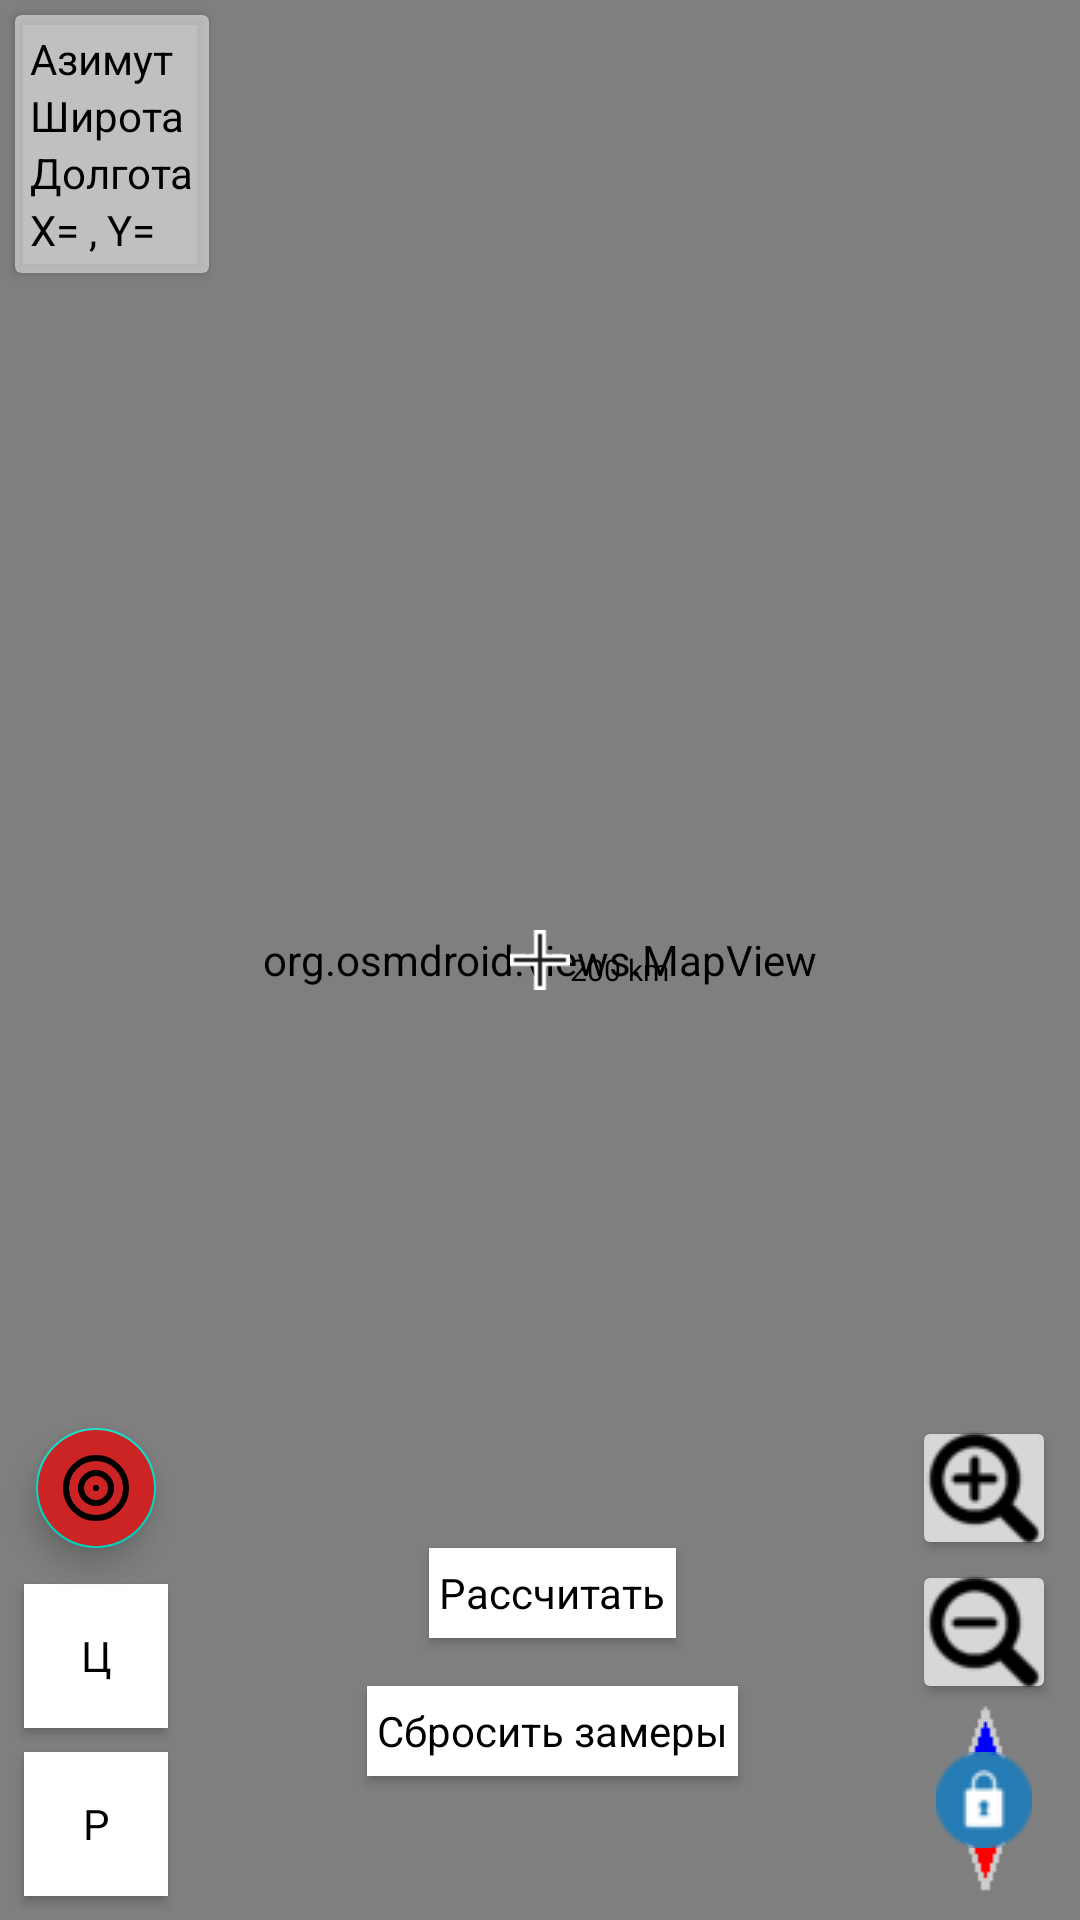

Where to tap for icons on this 1080px x 1920px app screen, as (x,y):
zoom in: (984,1488)
zoom out: (984,1633)
